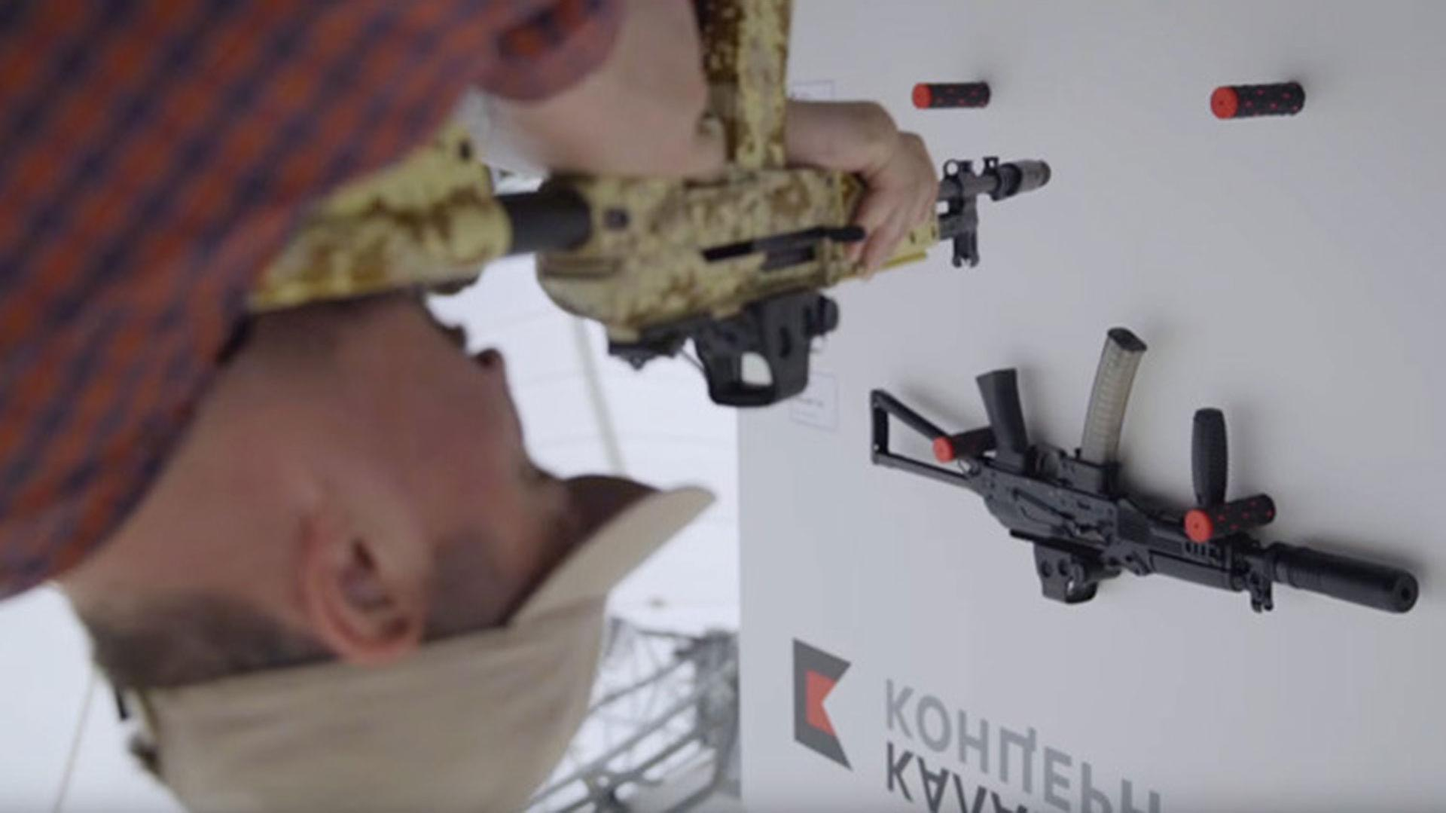larga: (237, 0, 1056, 410), (868, 327, 1422, 618)
